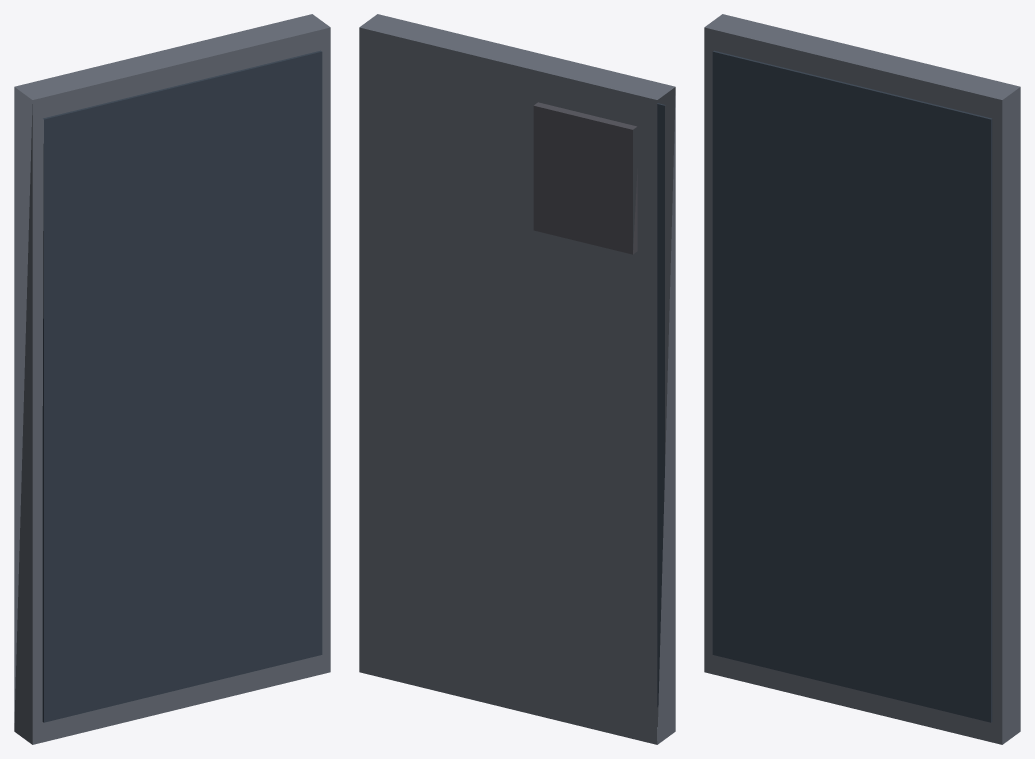
Rendered from cell_phone.glb.
3 renders of one model, left to right at view 1: azimuth 30°, elevation 25°; view 2: azimuth 150°, elevation 25°; view 3: azimuth 330°, elevation 25°, orthographic.
Visible parts, largest first — view 1: PhoneScreen, PhoneBody; view 2: PhoneBody, PhoneCameraBump, PhoneScreen; view 3: PhoneScreen, PhoneBody.
Part boxes in pixels (box(x1,y1,x2,y2)): PhoneScreen: box(42, 50, 322, 722); PhoneBody: box(14, 14, 330, 744); PhoneBody: box(359, 14, 675, 744); PhoneCameraBump: box(533, 102, 637, 254); PhoneScreen: box(657, 103, 665, 707); PhoneScreen: box(712, 50, 992, 722); PhoneBody: box(704, 14, 1020, 744).
Bounding box in the file's own units: 0.75 × 1.55 × 0.106.
